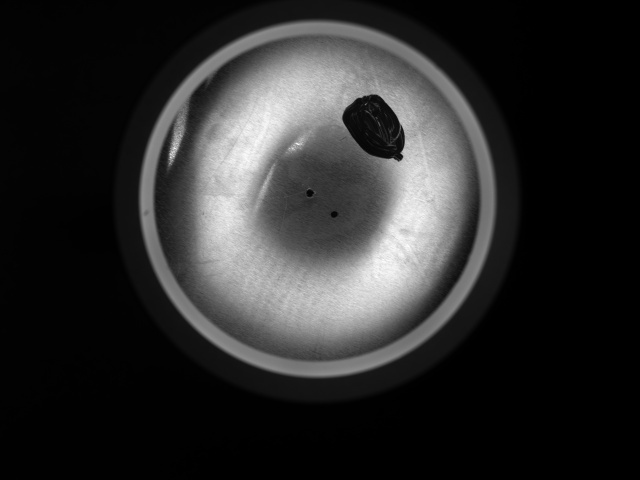zang_wu: (342, 92, 406, 164)
zhen_kong: (303, 185, 315, 201), (329, 206, 341, 220)
